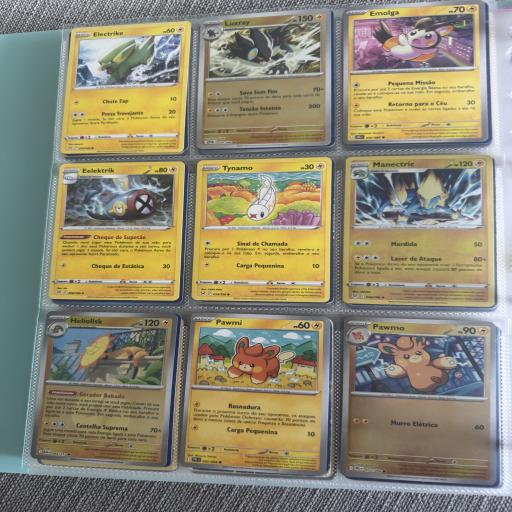card: (339, 316, 503, 486), (180, 308, 337, 476), (30, 305, 178, 467), (343, 152, 497, 307), (335, 0, 492, 149), (191, 154, 333, 303), (48, 160, 185, 301), (196, 8, 332, 149), (60, 19, 192, 155)
